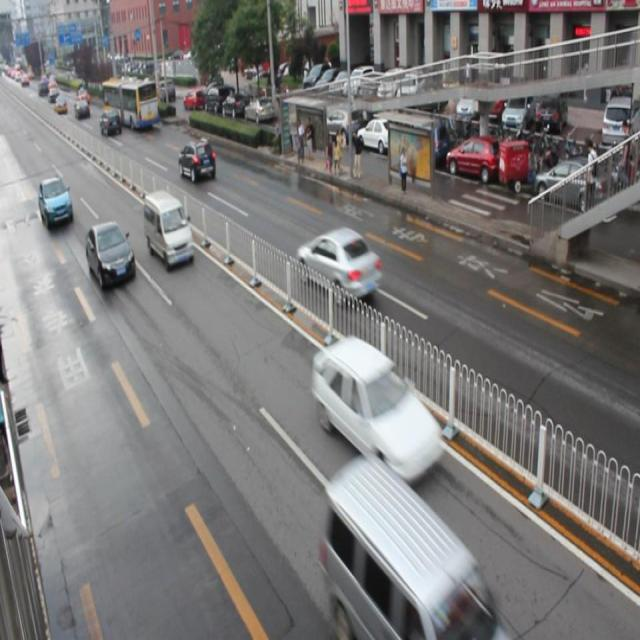car: (309, 338, 442, 486), (296, 228, 379, 301), (85, 220, 134, 288), (38, 176, 72, 228), (177, 139, 215, 182)
truck: (322, 452, 503, 640), (144, 192, 194, 267)
